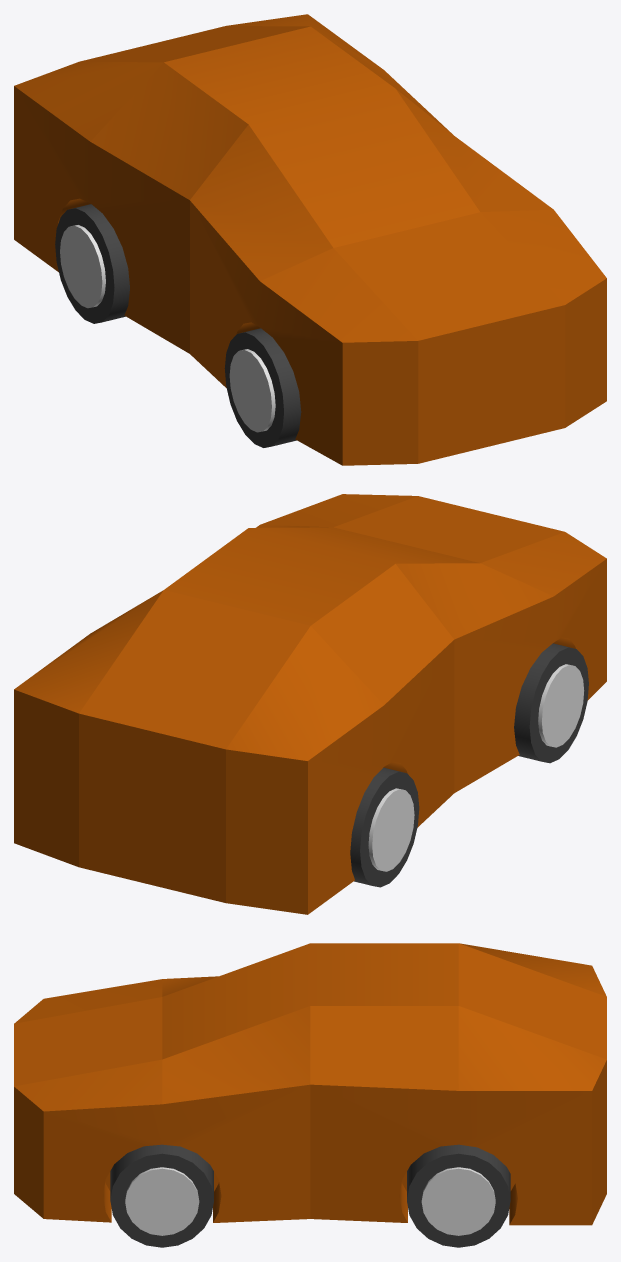
Rendered from CarRed.fbx.
The picture shows the model from 3 angles, top to bottom: view 1: azimuth 30°, elevation 25°; view 2: azimuth 150°, elevation 25°; view 3: azimuth 270°, elevation 25°; orthographic projection. The views are drawn at different scales.
Visible parts, largest first — view 1: pCylinder72; view 2: pCylinder72; view 3: pCylinder72.
Boxes of the visible parts, x1,y1,x2,y2 form: pCylinder72: [14, 14, 606, 465]; pCylinder72: [14, 494, 606, 914]; pCylinder72: [14, 943, 606, 1247].
Size of the model in its own units: 2.13 by 1.55 by 4.
